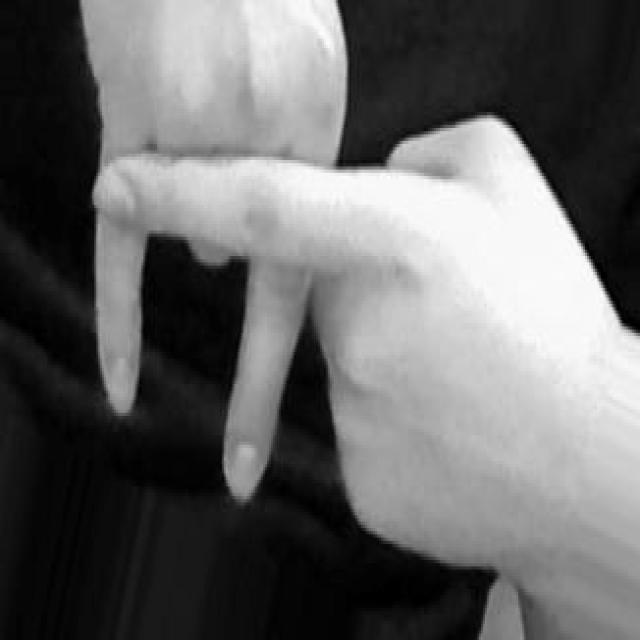H: (82, 4, 623, 577)
